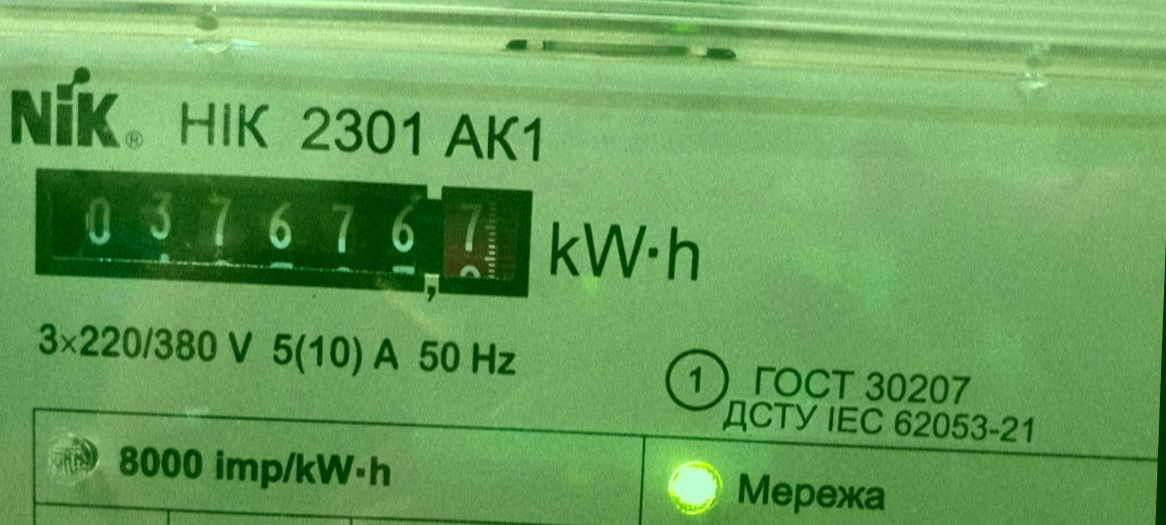0: (79, 191, 115, 247)
3: (143, 185, 172, 242)
6: (261, 195, 295, 250), (385, 199, 417, 254)
7: (323, 199, 356, 258), (200, 191, 233, 248), (453, 197, 483, 254)
screen: (14, 150, 547, 316)
